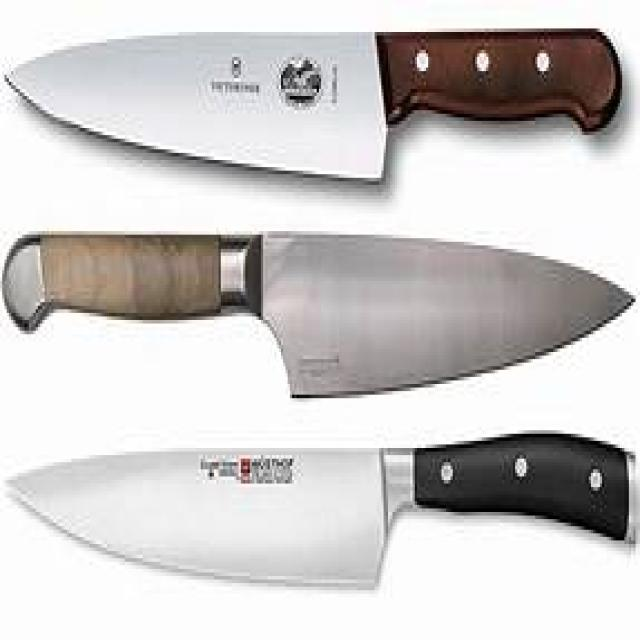Knife: (7, 235, 631, 395), (9, 28, 618, 178), (13, 434, 633, 580)
